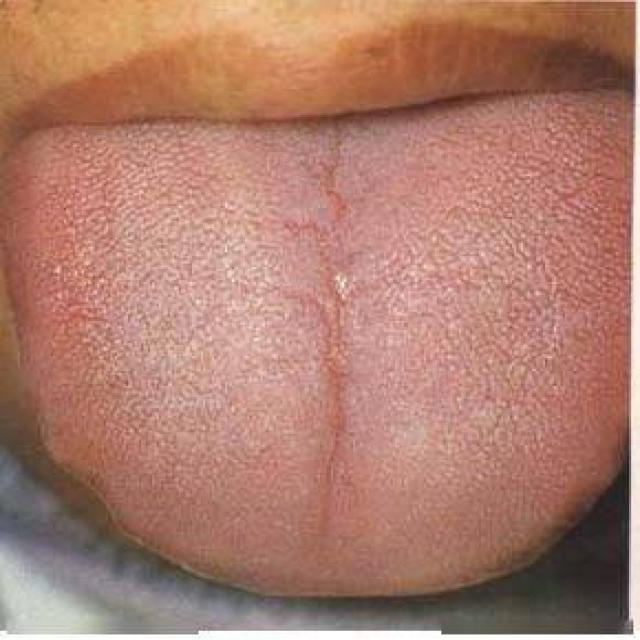tongue: (2, 113, 640, 602)
